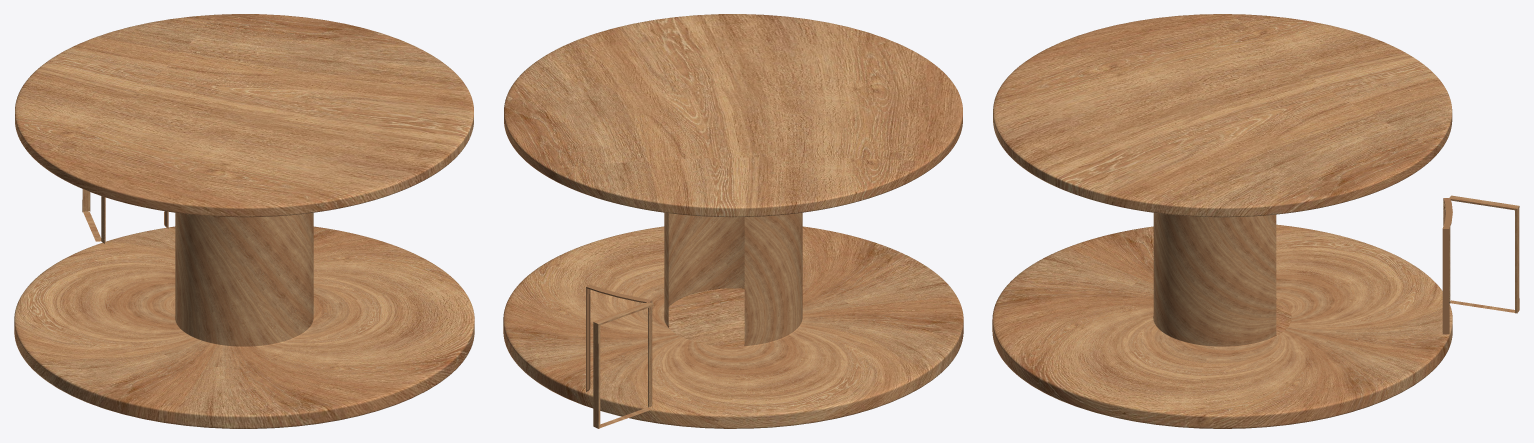
File: civciv_kafesi.glb
3 renders of one model, left to right at view 1: azimuth 30°, elevation 25°; view 2: azimuth 150°, elevation 25°; view 3: azimuth 270°, elevation 25°, orthographic.
Parts seen in each view (by area): view 1: Table_1; view 2: Table_1, Door.002_3, Door _5; view 3: Table_1, Door _5, Door.002_3.
Boxes of the visible parts, box(x1,y1,x2,y2) form: Table_1: box(14, 14, 474, 428); Table_1: box(503, 14, 963, 428); Door.002_3: box(593, 302, 653, 428); Door _5: box(586, 284, 652, 407); Table_1: box(992, 14, 1452, 428); Door _5: box(1442, 198, 1452, 334); Door.002_3: box(1449, 195, 1519, 313).
Bounding box in the file's own units: 7.7 × 4.13 × 8.82.
1 material, 1 textured.
